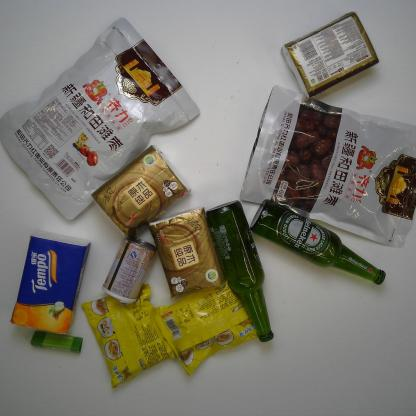Alcohol: (250, 198, 386, 286), (205, 199, 275, 343)
Canned Food: (102, 236, 156, 304)
Dried Food: (0, 17, 202, 221), (238, 84, 416, 249)
Instant Noodles: (152, 281, 260, 376), (80, 283, 175, 389)
Stationery: (30, 330, 83, 354)
Tissue: (91, 144, 193, 237), (281, 11, 380, 98), (10, 230, 91, 336), (148, 206, 224, 298)
